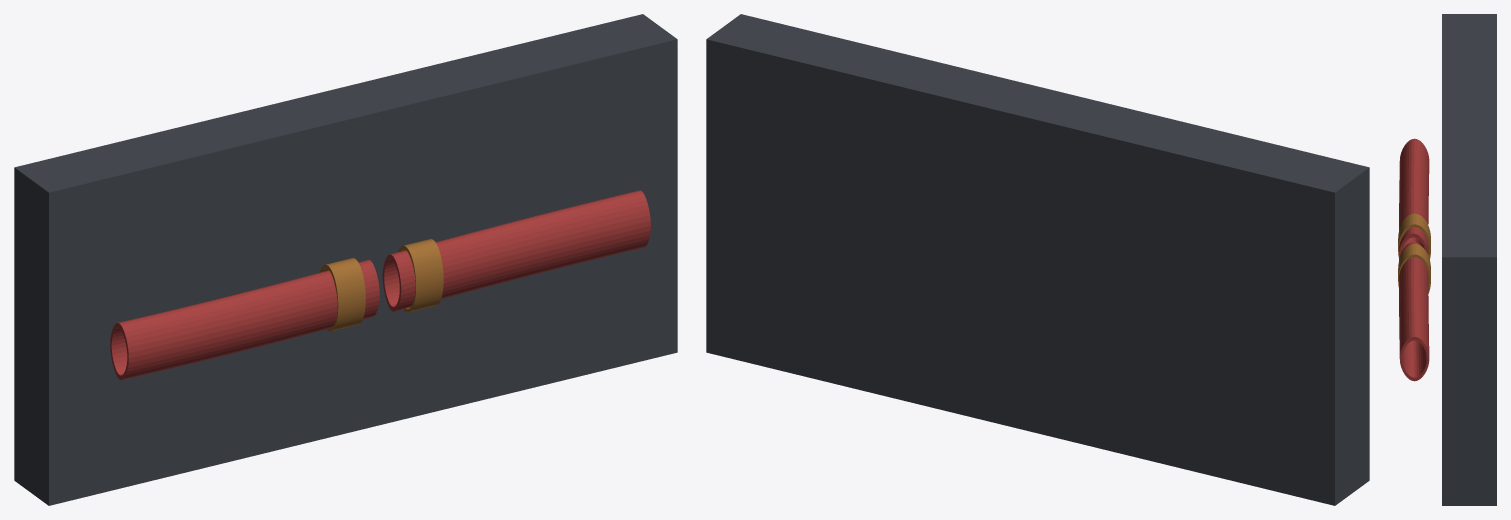
The model's file is dranmar_seal_divide_vessel_divided.glb.
3 views of the same model, side by side, from view 1: azimuth 30°, elevation 25°; view 2: azimuth 150°, elevation 25°; view 3: azimuth 270°, elevation 25° (orthographic). The views are drawn at different scales.
Visible parts, largest first — view 1: FixtureBase, LeftVessel, RightVessel, LeftSealBand, RightSealBand; view 2: FixtureBase; view 3: FixtureBase, RightVessel, LeftVessel, LeftSealBand, RightSealBand.
Part boxes in pixels (x1=…): FixtureBase: x1=14, y1=14, x2=677, y2=505; LeftVessel: x1=110, y1=259, x2=379, y2=380; RightVessel: x1=382, y1=190, x2=650, y2=311; LeftSealBand: x1=319, y1=258, x2=365, y2=331; RightSealBand: x1=398, y1=239, x2=443, y2=312; FixtureBase: x1=706, y1=14, x2=1369, y2=505; FixtureBase: x1=1442, y1=14, x2=1496, y2=505; RightVessel: x1=1398, y1=242, x2=1429, y2=381; LeftVessel: x1=1398, y1=138, x2=1429, y2=259; LeftSealBand: x1=1398, y1=213, x2=1430, y2=259; RightSealBand: x1=1398, y1=244, x2=1430, y2=293.
Size of the model in its own units: 0.105 by 0.05 by 0.018.
